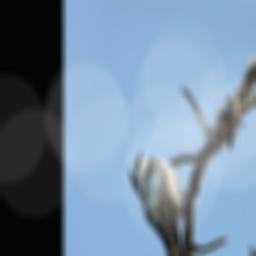Swallow: (109, 147, 204, 256)
